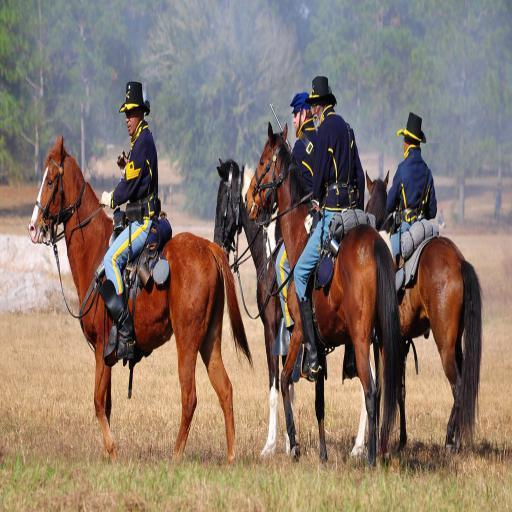horse: (30, 138, 252, 466), (244, 120, 403, 468), (212, 158, 378, 459), (364, 166, 482, 454)
